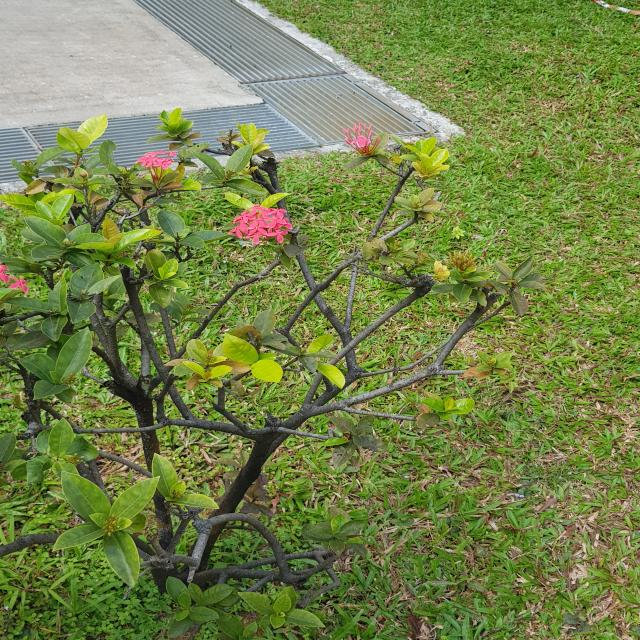Chinese-Ixora: (228, 203, 294, 245), (341, 120, 382, 157), (136, 150, 178, 182), (0, 259, 29, 293), (442, 248, 479, 272)
